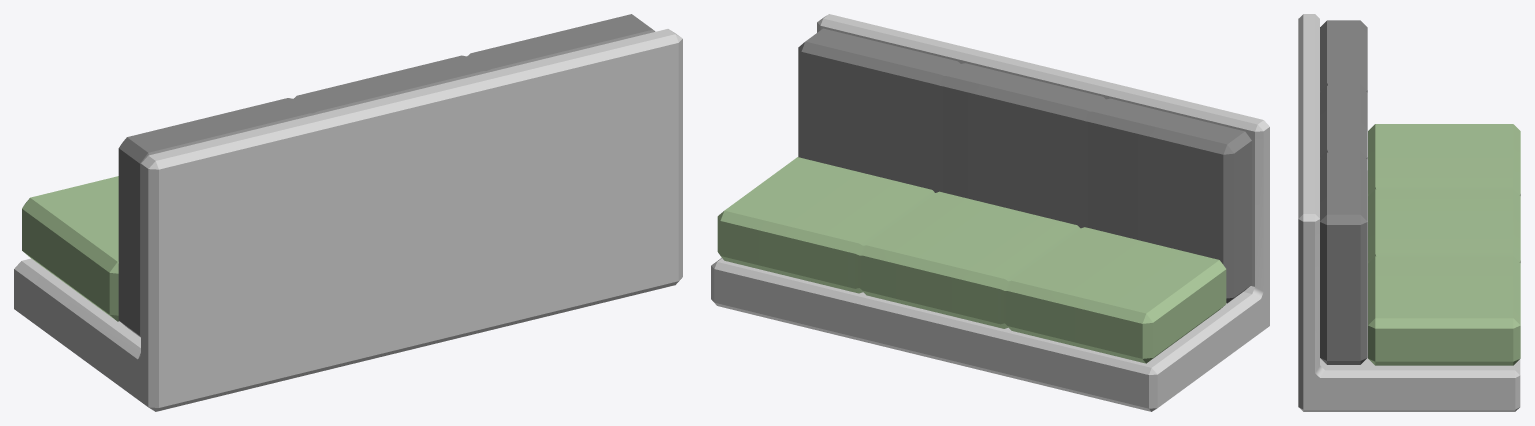
Rendered from MOD_SOFA.fbx.
3 views of the same model, side by side, from view 1: azimuth 30°, elevation 25°; view 2: azimuth 150°, elevation 25°; view 3: azimuth 270°, elevation 25° (orthographic). The views are drawn at different scales.
Parts seen in each view (by area): view 1: sofa; view 2: sofa; view 3: sofa.
Boxes of the visible parts, box(x1,y1,x2,y2) form: sofa: box(14, 14, 682, 411); sofa: box(711, 14, 1269, 411); sofa: box(1298, 14, 1520, 411).
Size of the model in its own units: 2.62 by 1.17 by 1.19.
